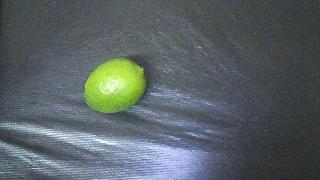LOCAL: (84, 58, 146, 113)
